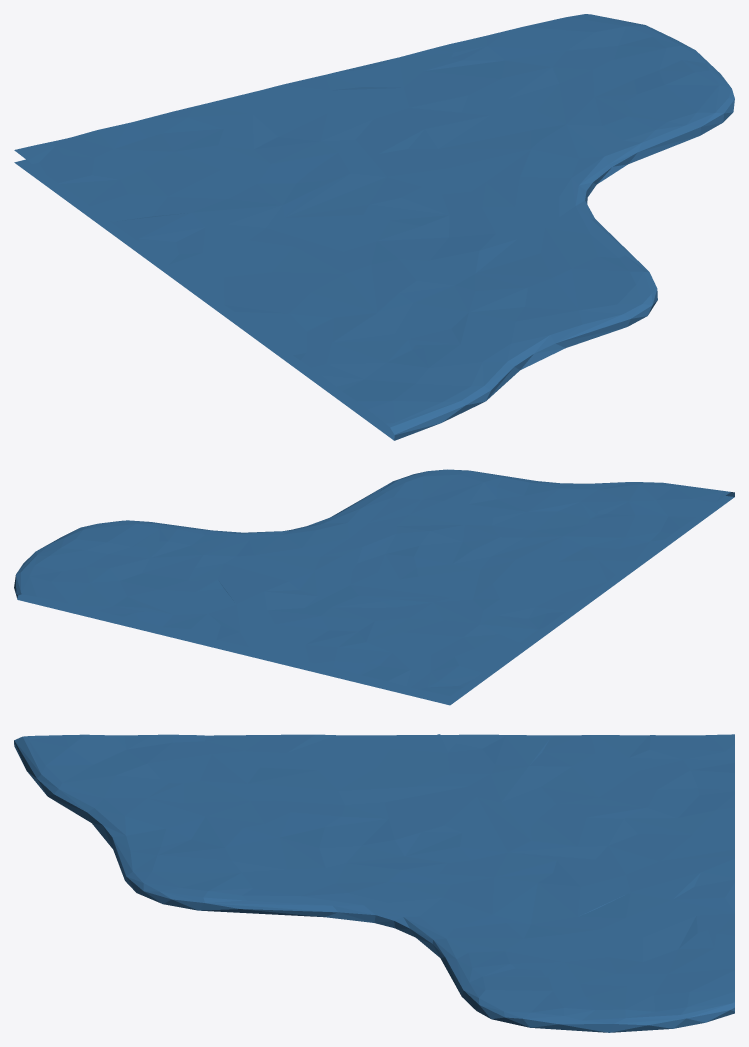
File: 6Turns_Level2_flood_model_model.fbx
3 renders of one model, top to bottom at view 1: azimuth 30°, elevation 25°; view 2: azimuth 150°, elevation 25°; view 3: azimuth 270°, elevation 25°, orthographic. The views are drawn at different scales.
Visible parts, largest first — view 1: BezierCurve.002; view 2: BezierCurve.002; view 3: BezierCurve.002.
Part boxes in pixels (left/top/right/bottom): BezierCurve.002: left=14, top=14, right=734, bottom=440; BezierCurve.002: left=14, top=469, right=734, bottom=705; BezierCurve.002: left=14, top=734, right=734, bottom=1032.
Bounding box in the file's own units: 210 × 4.02 × 223.
